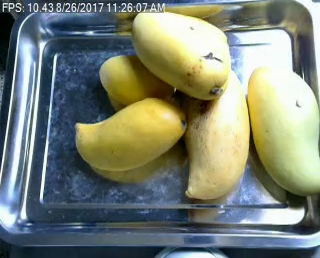Mango: (248, 65, 320, 193), (182, 68, 251, 198), (130, 9, 229, 98), (72, 96, 185, 170), (100, 54, 177, 107)
